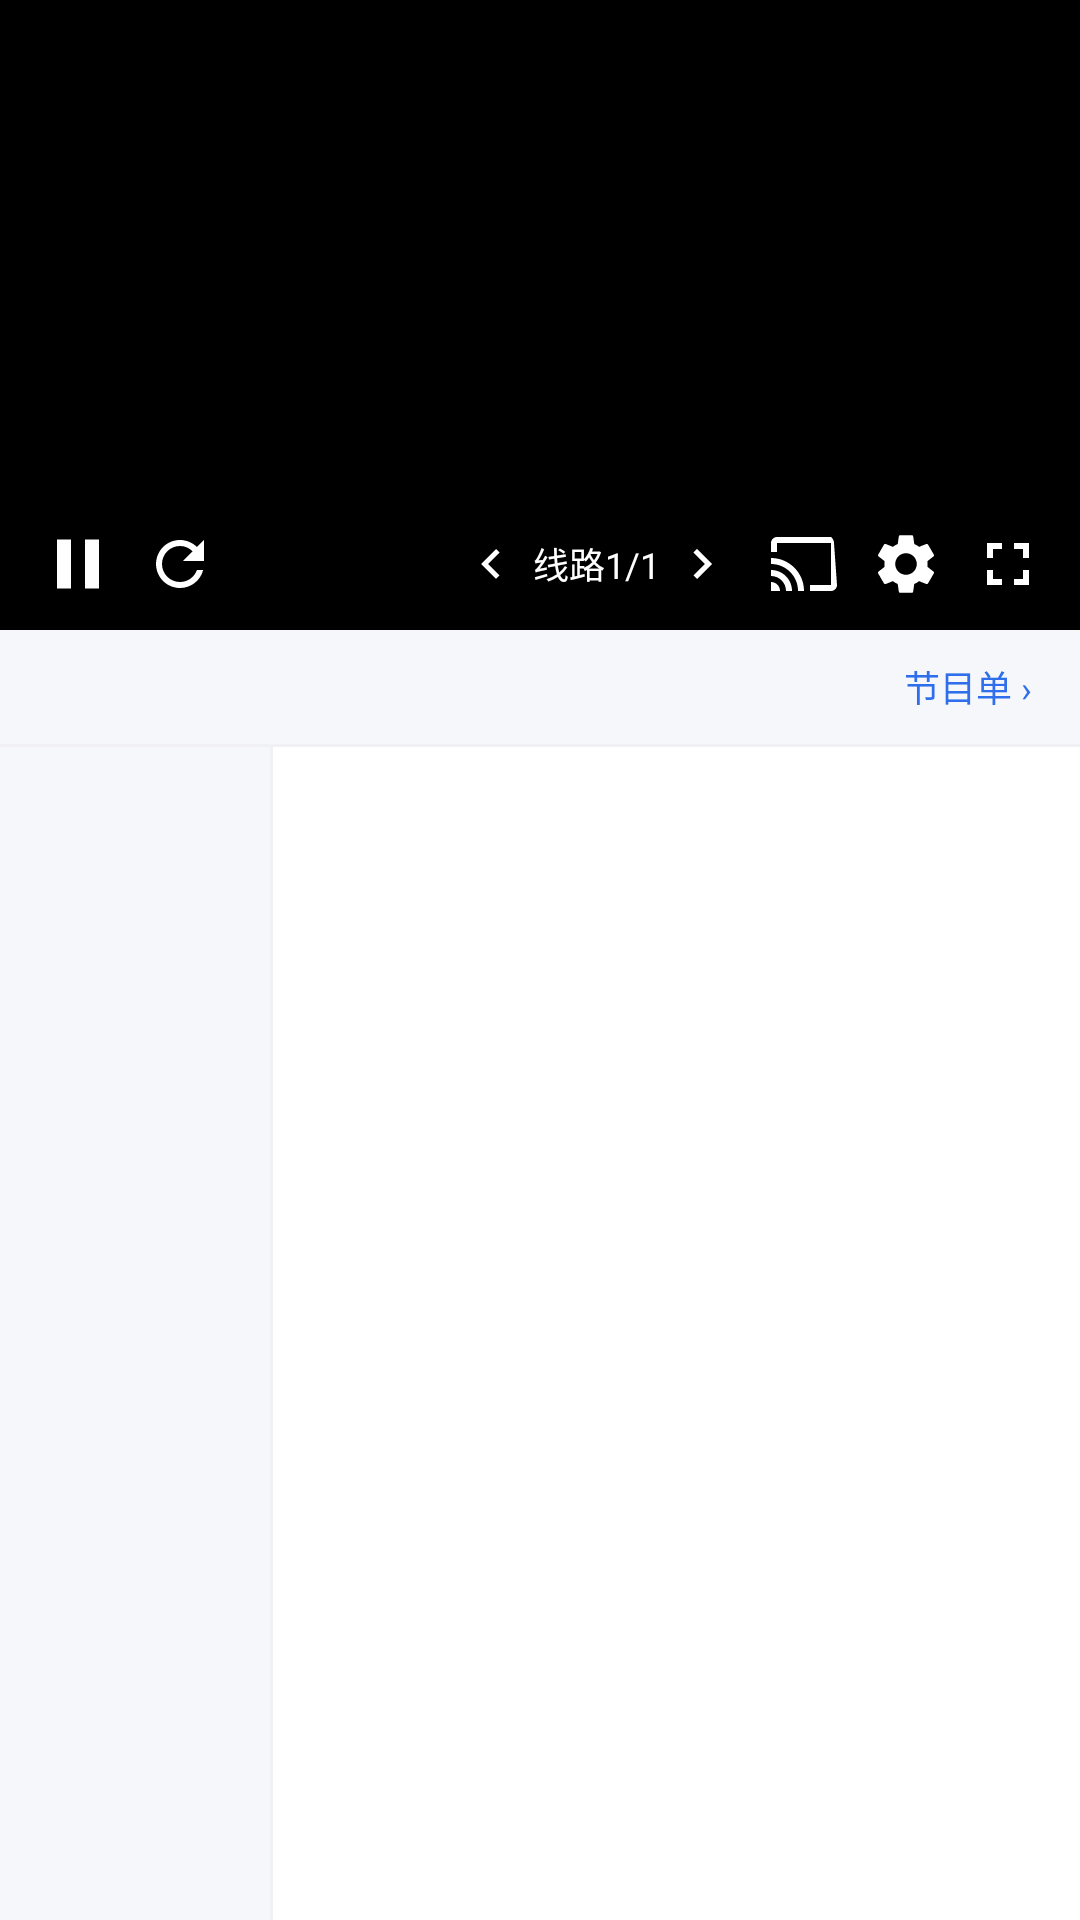

Icon bounding boxes for this 1080px×1920px phone screenshot, format (x1, y1, x2, y2):
cast: (771, 537, 837, 591)
chevron left: (481, 549, 500, 579)
chevron right: (693, 549, 712, 579)
fullscreen: (987, 543, 1029, 585)
pause: (57, 539, 99, 589)
refresh: (156, 540, 204, 588)
settings: (878, 535, 934, 593)
